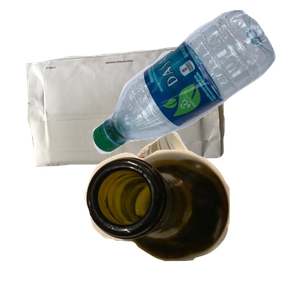glass: (82, 147, 300, 300)
paper: (24, 43, 242, 202)
plastic: (90, 10, 300, 156)
trash: (90, 129, 295, 300)
